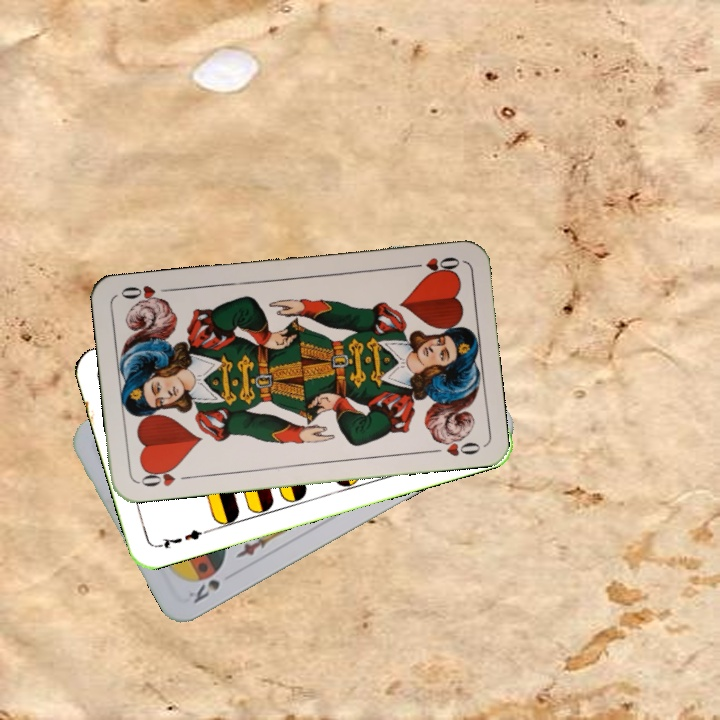E7: (153, 525, 210, 552)
HO: (135, 463, 194, 490), (404, 252, 463, 277)
SK: (183, 575, 223, 606)
